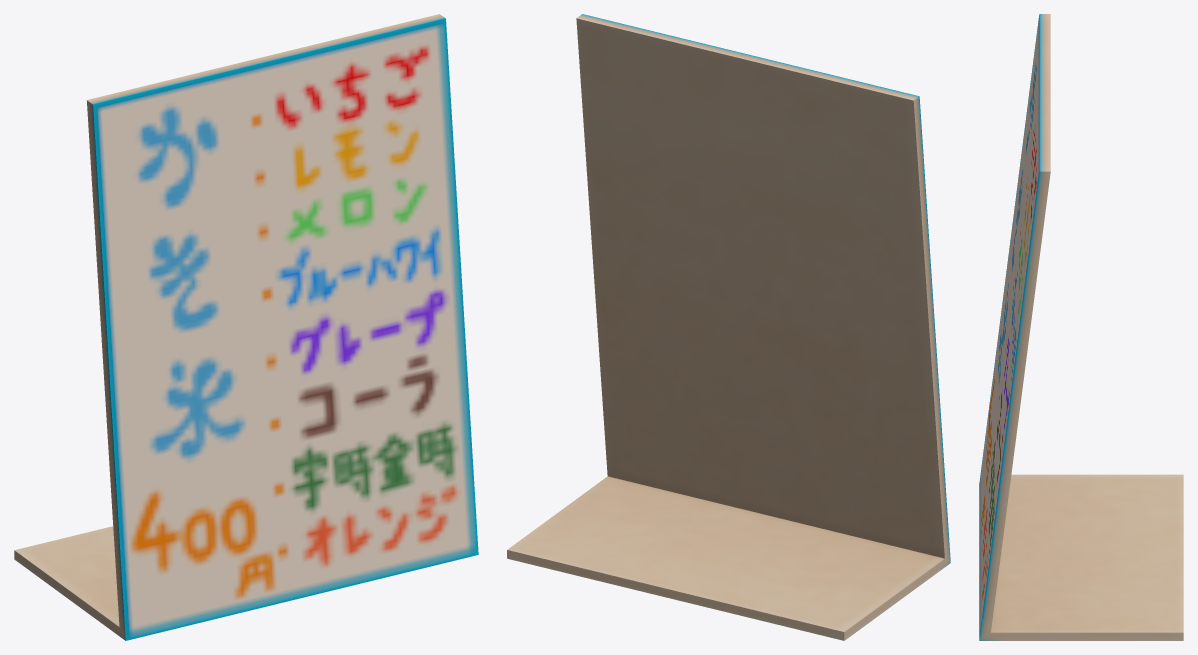
The model's file is jsf_Flyer_ShavedIce_06.fbx.
3 views of the same model, side by side, from view 1: azimuth 30°, elevation 25°; view 2: azimuth 150°, elevation 25°; view 3: azimuth 270°, elevation 25° (orthographic). The views are drawn at different scales.
Visible parts, largest first — view 1: jsf_Flyer_ShavedIce_06; view 2: jsf_Flyer_ShavedIce_06; view 3: jsf_Flyer_ShavedIce_06.
Boxes of the visible parts, x1,y1,x2,y2 form: jsf_Flyer_ShavedIce_06: (14,14,478,640); jsf_Flyer_ShavedIce_06: (507,14,950,640); jsf_Flyer_ShavedIce_06: (979,14,1183,640).
Size of the model in its own units: 29.64 by 41.11 by 16.2.
